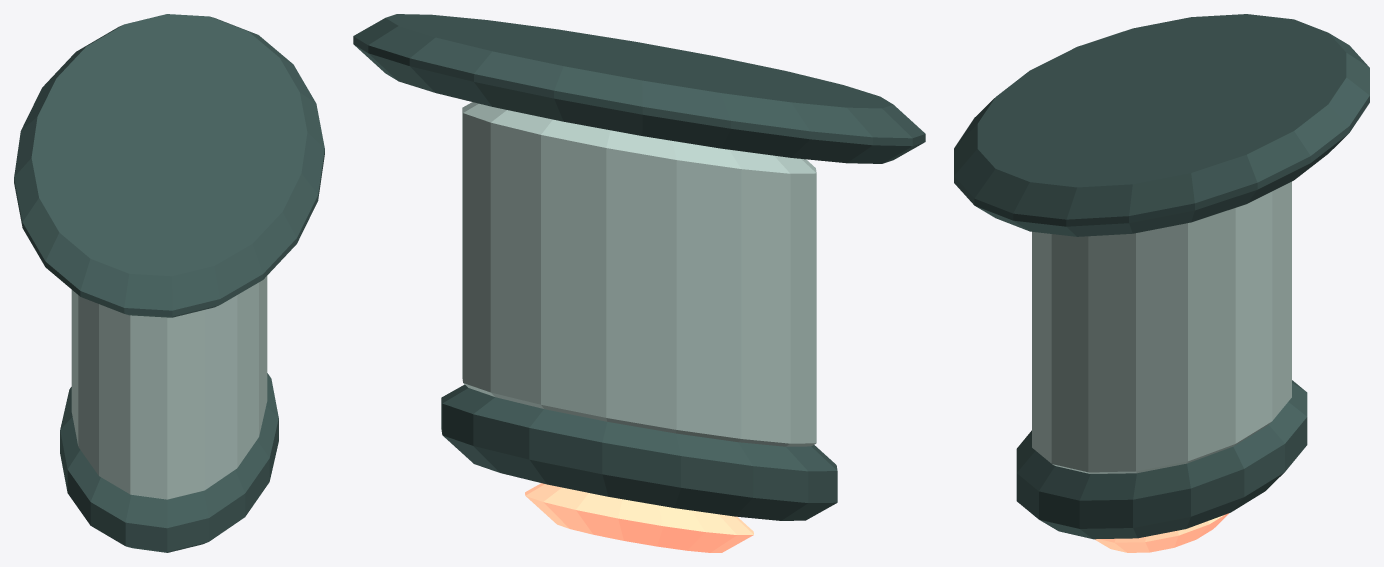
The model's file is Laser_Down.gltf.
The picture shows the model from 3 angles, left to right: view 1: azimuth 30°, elevation 25°; view 2: azimuth 150°, elevation 25°; view 3: azimuth 270°, elevation 25°; orthographic projection. The views are drawn at different scales.
Parts seen in each view (by area): view 1: Laser_Down_baked; view 2: Laser_Down_baked; view 3: Laser_Down_baked.
Boxes of the visible parts, x1,y1,x2,y2 form: Laser_Down_baked: (14, 14, 324, 552); Laser_Down_baked: (353, 14, 925, 552); Laser_Down_baked: (954, 14, 1369, 552).
Bounding box in the file's own units: 0.5792 × 0.7258 × 0.5334.
